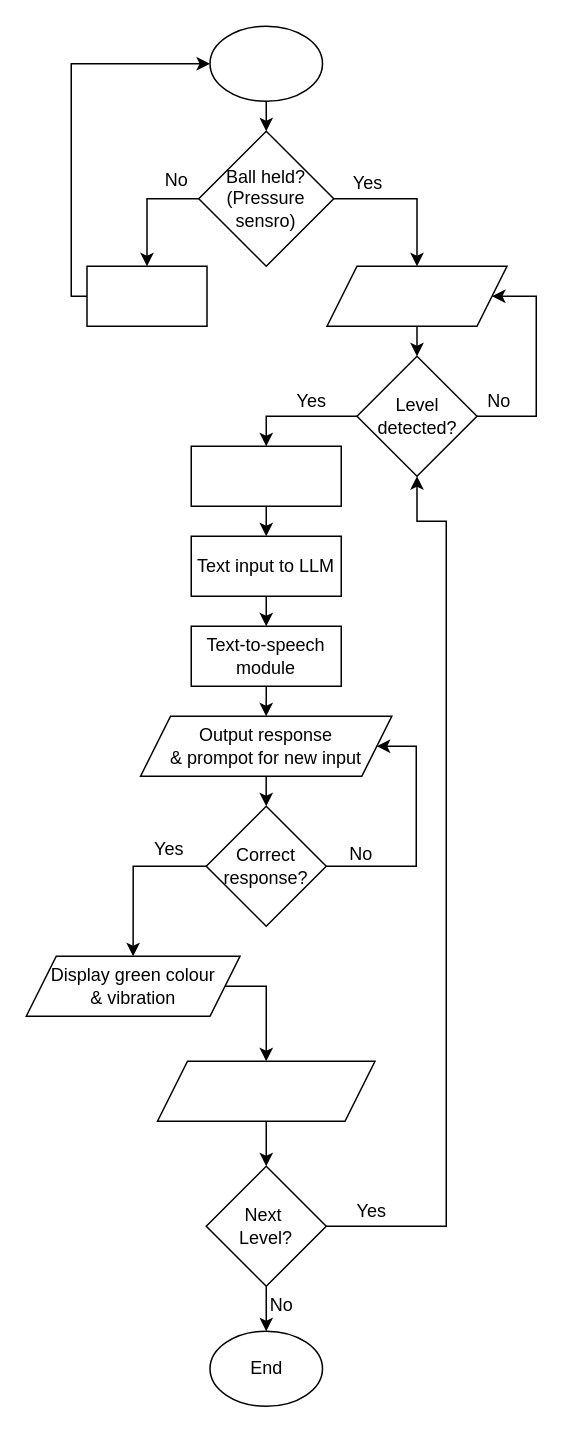
Some shapes in this 575 by 1433 pixel diagram are drawn without their labels. Each missing label, with the centre of its shape:
Prompt user for next level: point (265, 1090)
Sound ("Select Level"): point (416, 295)
Speech-to-text module: point (265, 475)
Start: point (265, 63)
Wait for ball to be picked up: point (146, 295)
